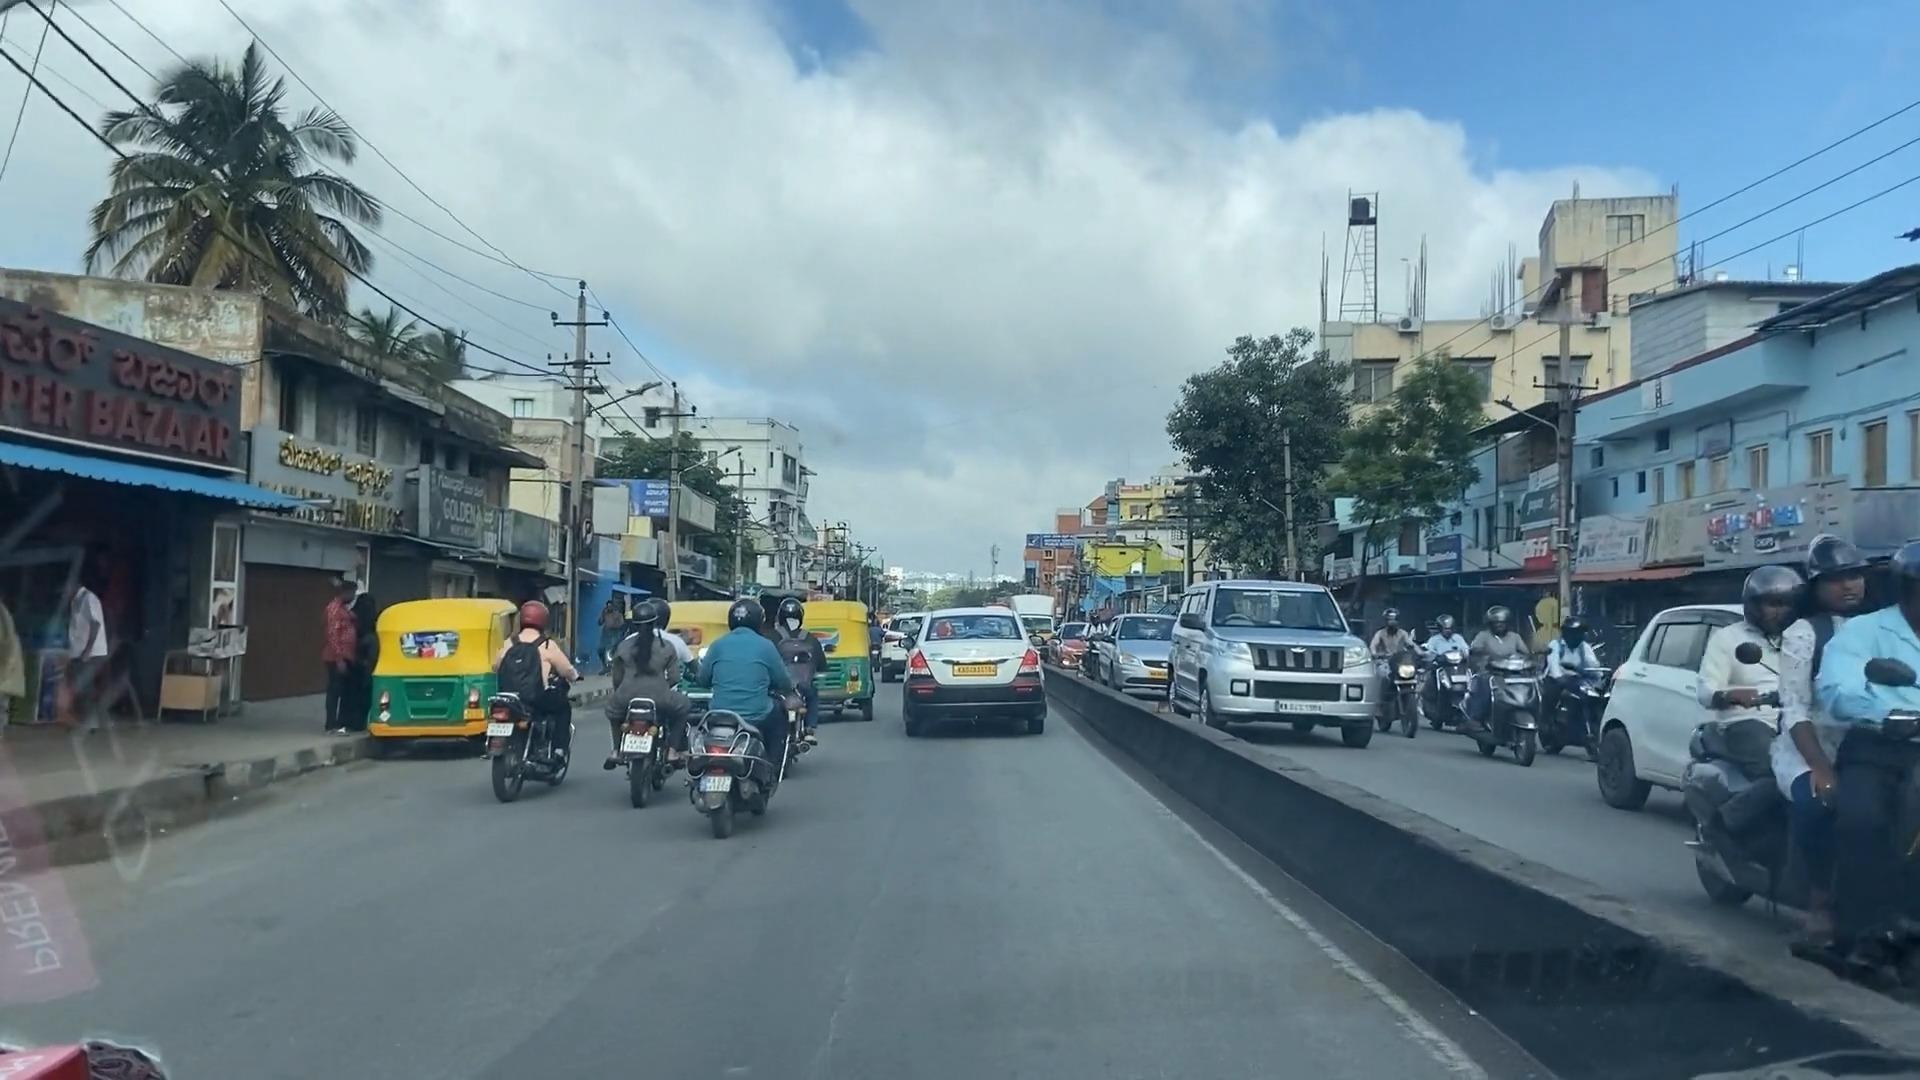LMV: (682, 588, 767, 851), (903, 607, 1043, 742), (771, 593, 839, 806)
RoadDamages: (775, 906, 878, 1068)
